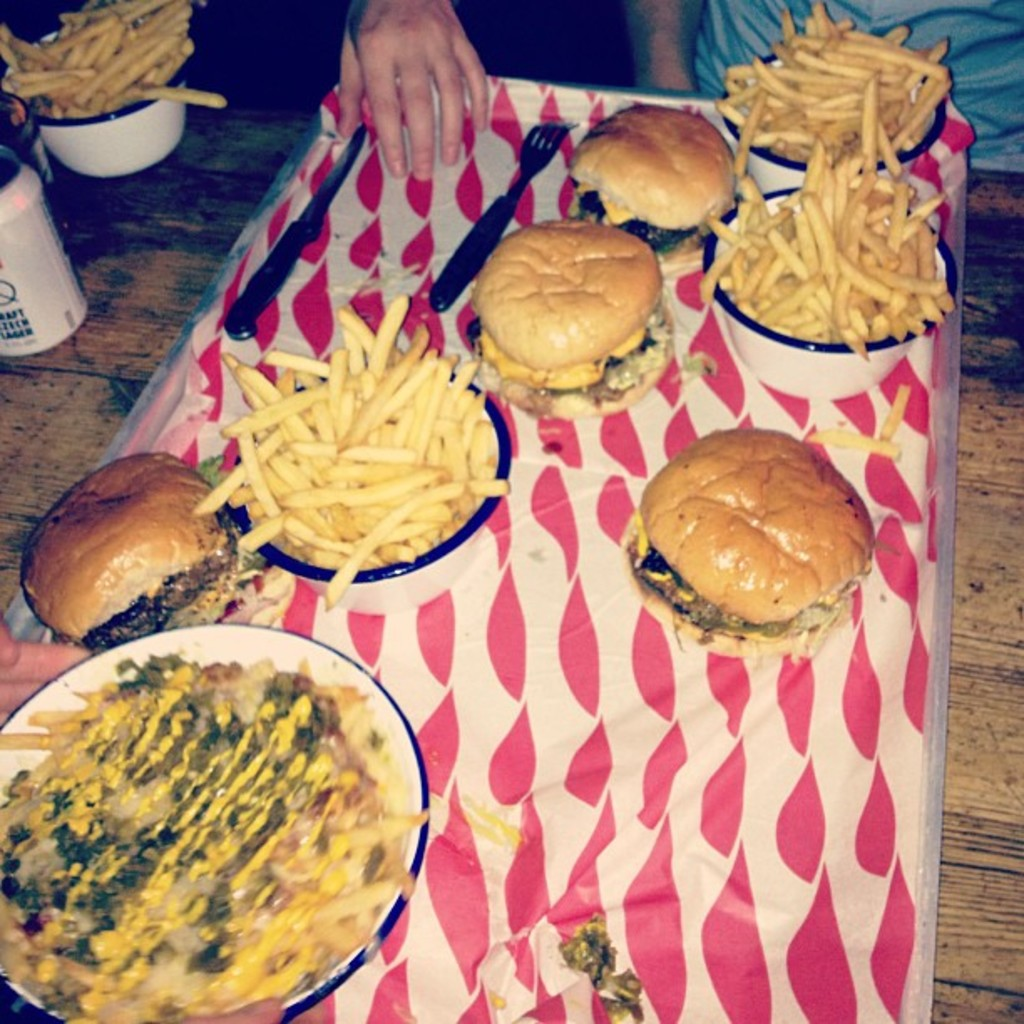Hamburger: (617, 430, 878, 659), (23, 453, 256, 645), (471, 222, 672, 409), (568, 103, 737, 259)
